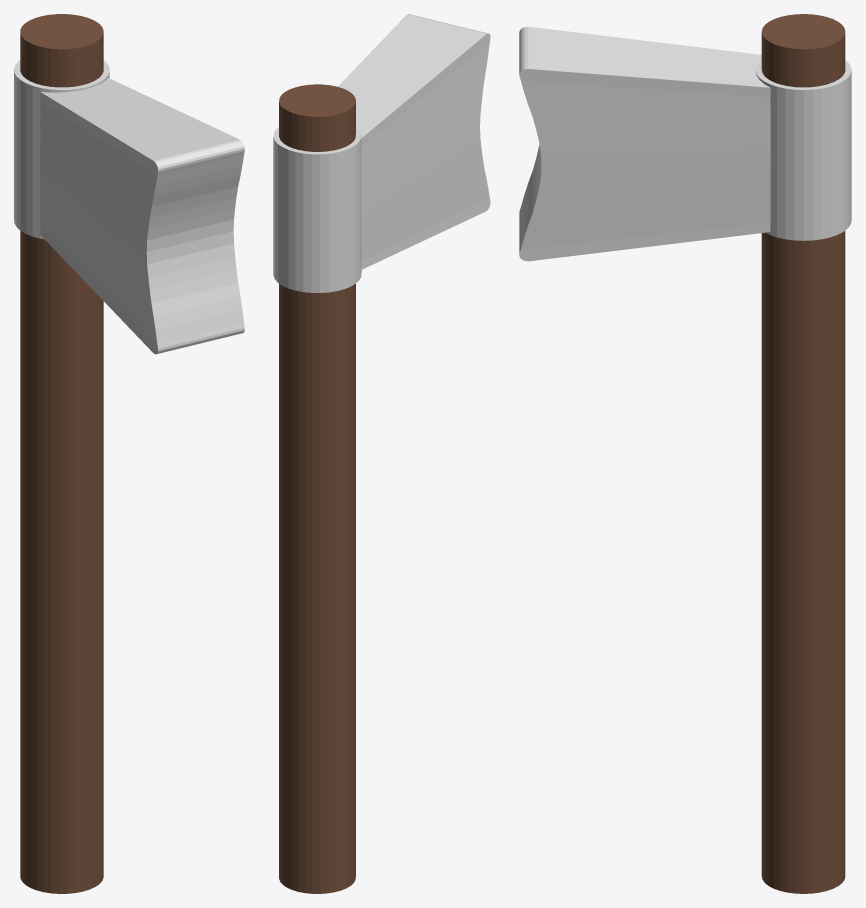
The model's file is Axe.fbx.
3 views of the same model, side by side, from view 1: azimuth 30°, elevation 25°; view 2: azimuth 150°, elevation 25°; view 3: azimuth 270°, elevation 25° (orthographic). The views are drawn at different scales.
Visible parts, largest first — view 1: AxeMesh; view 2: AxeMesh; view 3: AxeMesh.
Part boxes in pixels (x1,y1,x2,y2): AxeMesh: (14,14,244,893); AxeMesh: (273,14,490,893); AxeMesh: (519,14,851,893).
Size of the model in its own units: 52.48 by 484 by 173.
